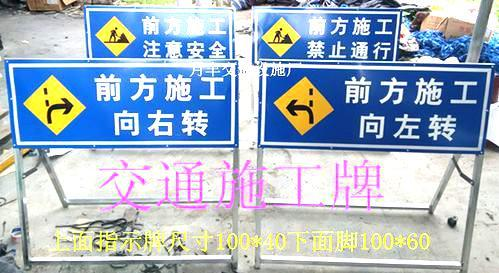sign: (6, 58, 238, 147), (260, 64, 487, 153), (84, 5, 233, 58), (255, 8, 399, 59)
